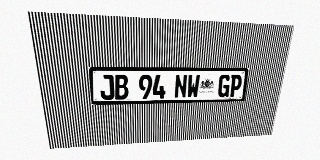4: (152, 74, 166, 99)
9: (139, 75, 152, 99)
B: (114, 75, 128, 100)
G: (217, 74, 231, 97)
J: (99, 75, 115, 100)
N: (174, 74, 187, 98)
P: (229, 74, 243, 97)
W: (186, 74, 200, 98)
